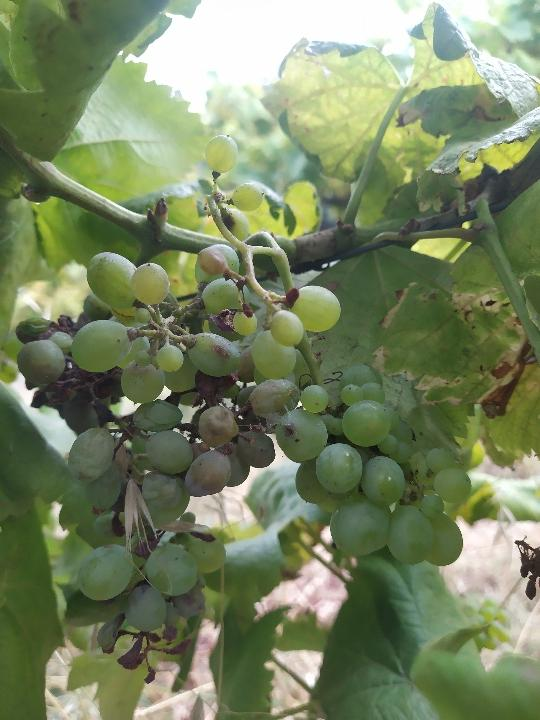grape: (13, 241, 344, 687)
